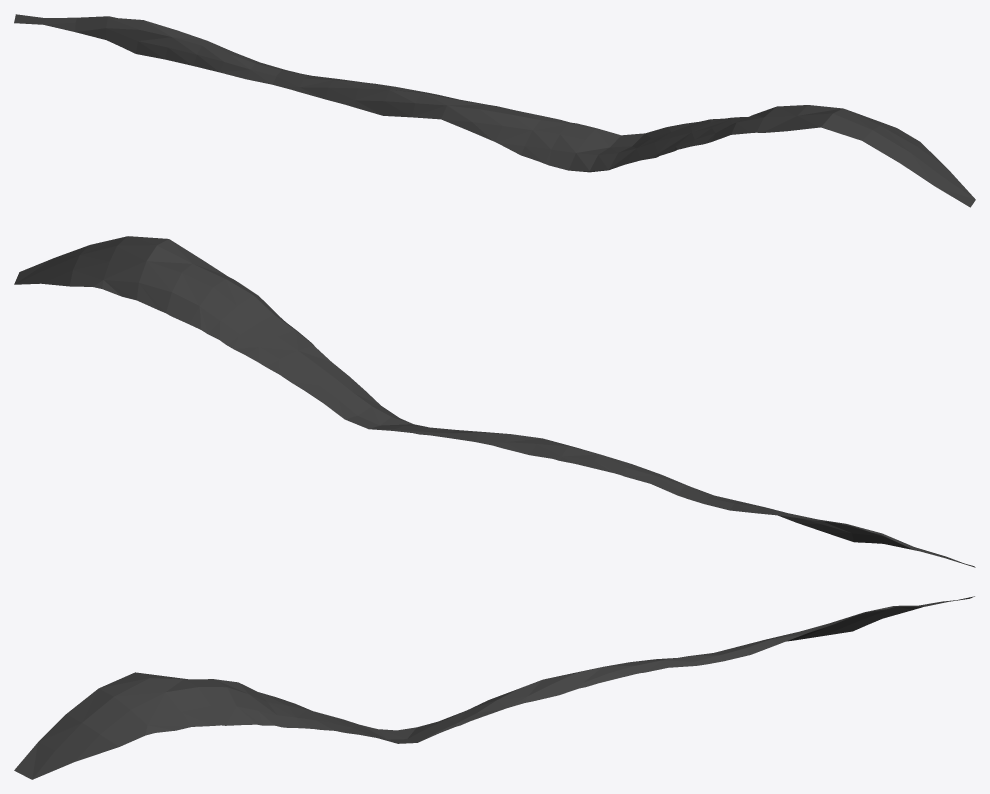
Rendered from eq_dist_limb_Paracuneal_Groove.glb.
The picture shows the model from 3 angles, top to bottom: view 1: azimuth 30°, elevation 25°; view 2: azimuth 210°, elevation 25°; view 3: azimuth 270°, elevation 25°; orthographic projection.
Visible parts, largest first — view 1: eq_dist_limb_Paracuneal_Groove; view 2: eq_dist_limb_Paracuneal_Groove; view 3: eq_dist_limb_Paracuneal_Groove.
Boxes of the visible parts, <box> form: eq_dist_limb_Paracuneal_Groove: <box>14,14,975,207</box>; eq_dist_limb_Paracuneal_Groove: <box>14,236,975,567</box>; eq_dist_limb_Paracuneal_Groove: <box>14,596,974,779</box>.
Size of the model in its own units: 0.00452 by 0.00107 by 0.00786.
1 material, 1 textured.
